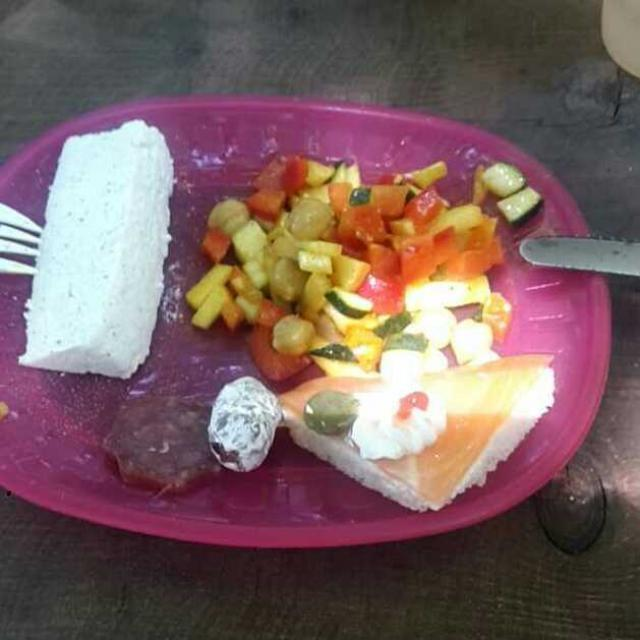chickpeas: (206, 202, 338, 363)
mixed-vegetables: (207, 141, 535, 373)
salami: (105, 363, 279, 498)
